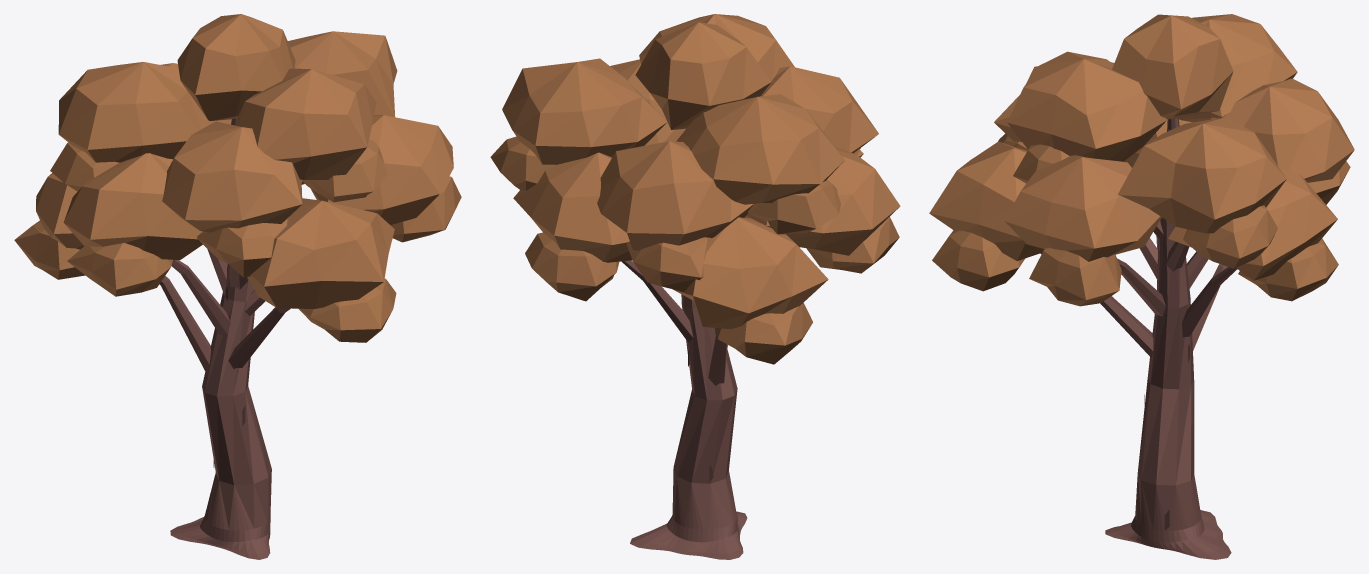
The model's file is cherry_wild_autumn.glb.
3 views of the same model, side by side, from view 1: azimuth 30°, elevation 25°; view 2: azimuth 150°, elevation 25°; view 3: azimuth 270°, elevation 25° (orthographic). The views are drawn at different scales.
Visible parts, largest first — view 1: leaves, branches; view 2: leaves, branches; view 3: leaves, branches.
Boxes of the visible parts, x1,y1,x2,y2 form: leaves: (14,14,461,342); branches: (159,118,290,559); leaves: (490,14,900,364); branches: (621,216,748,559); leaves: (929,14,1354,306); branches: (1040,118,1237,559).
Bounding box in the file's own units: 3.31 × 4.6 × 3.4.
